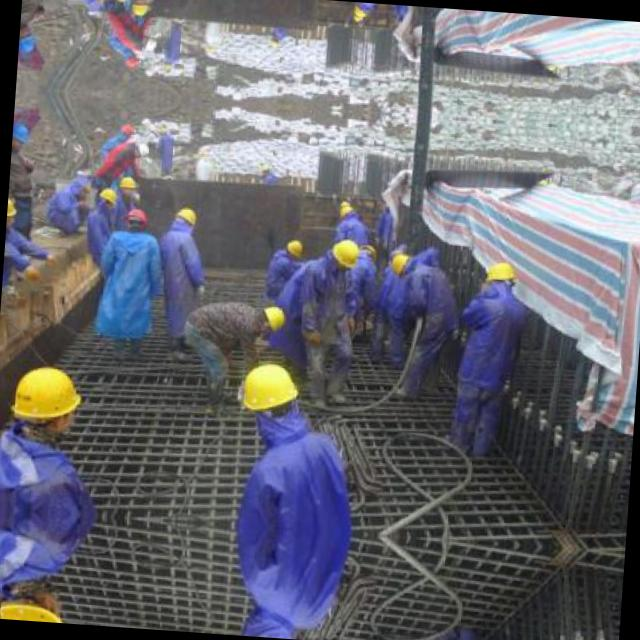helmet: (3, 356, 87, 440), (238, 354, 304, 426), (0, 581, 71, 620), (478, 254, 518, 292), (252, 303, 286, 333), (328, 240, 358, 270), (18, 22, 38, 59), (120, 204, 148, 230), (387, 250, 412, 278), (12, 118, 30, 154), (281, 236, 307, 258), (94, 186, 120, 208), (356, 240, 377, 264), (118, 172, 136, 195), (112, 120, 132, 138), (116, 53, 136, 70), (7, 192, 16, 228), (131, 0, 149, 18), (336, 203, 354, 220), (350, 1, 368, 18)
